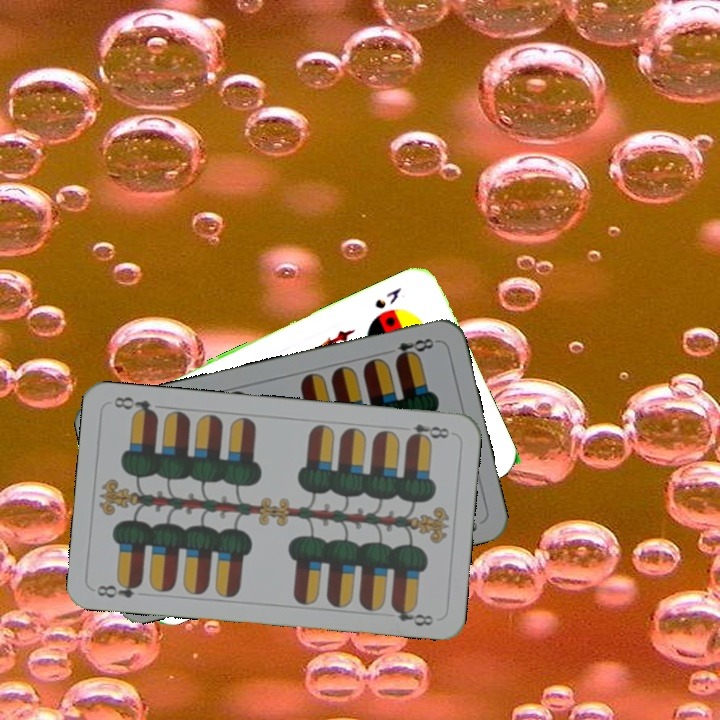E8: (391, 334, 440, 364), (93, 576, 145, 601), (403, 420, 455, 444)
SK: (371, 283, 404, 312)
